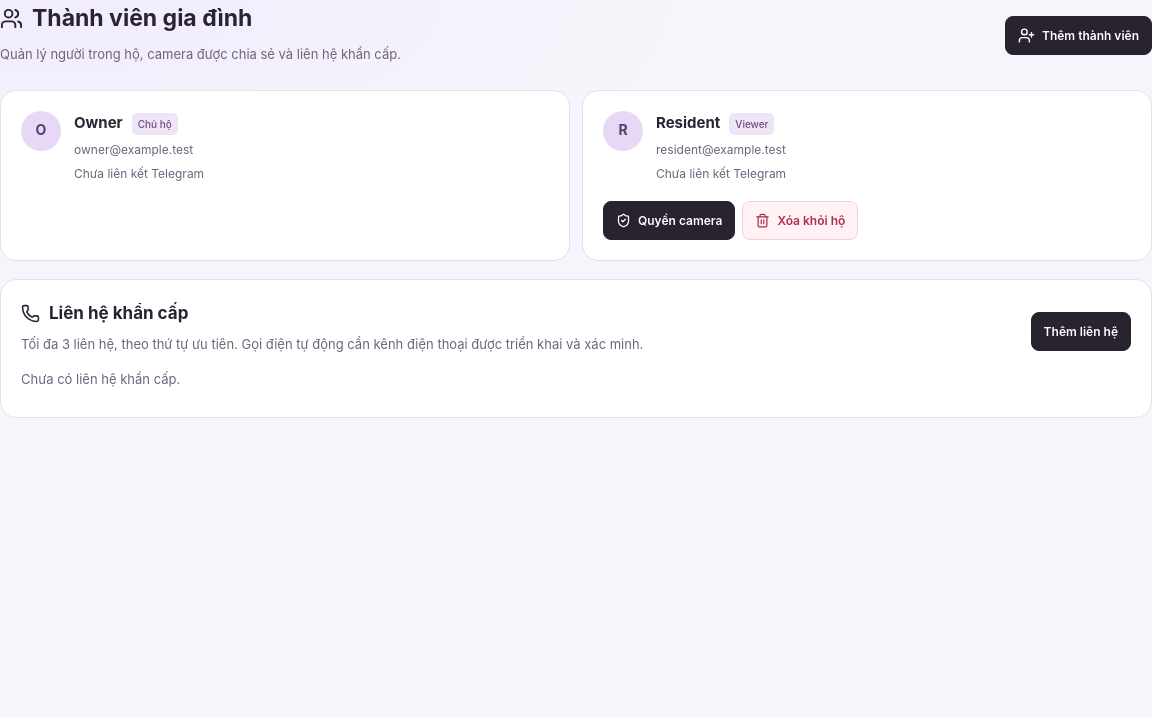
it: Caregiver family access › creates a Viewer without automatically granting household cameras
Step 1. Click the button "Thêm thành viên" → (1078,36), box [1005,16,1151,55]
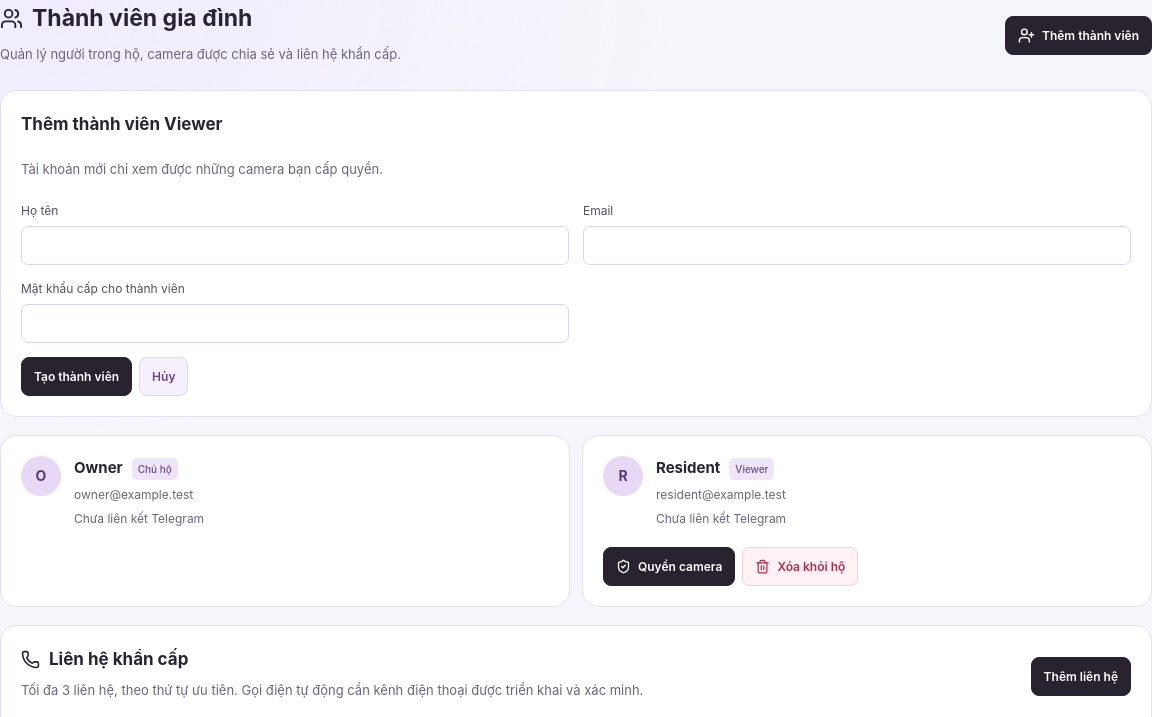
Now the text "Tài khoản mới chỉ xem được những camera bạn cấp quyền." is shown, box [21,161,383,177]
